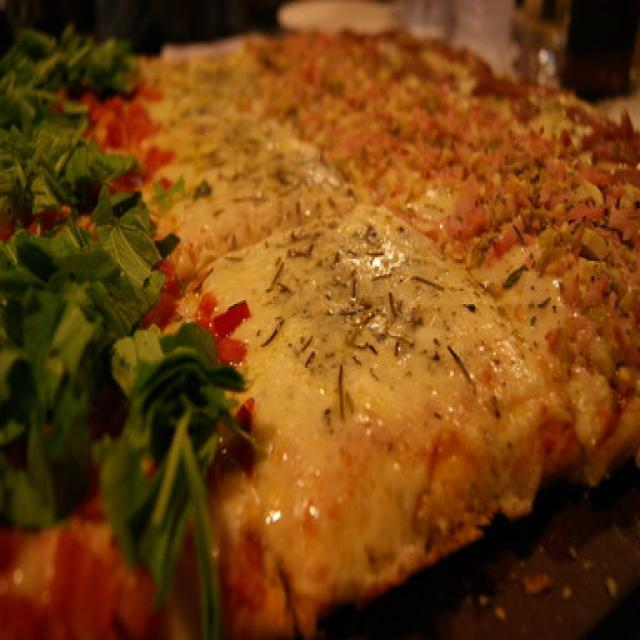Cheese: (146, 46, 565, 591)
Pizza: (0, 25, 640, 636)
Rucola: (0, 51, 79, 500), (138, 320, 218, 611), (83, 154, 135, 527)
